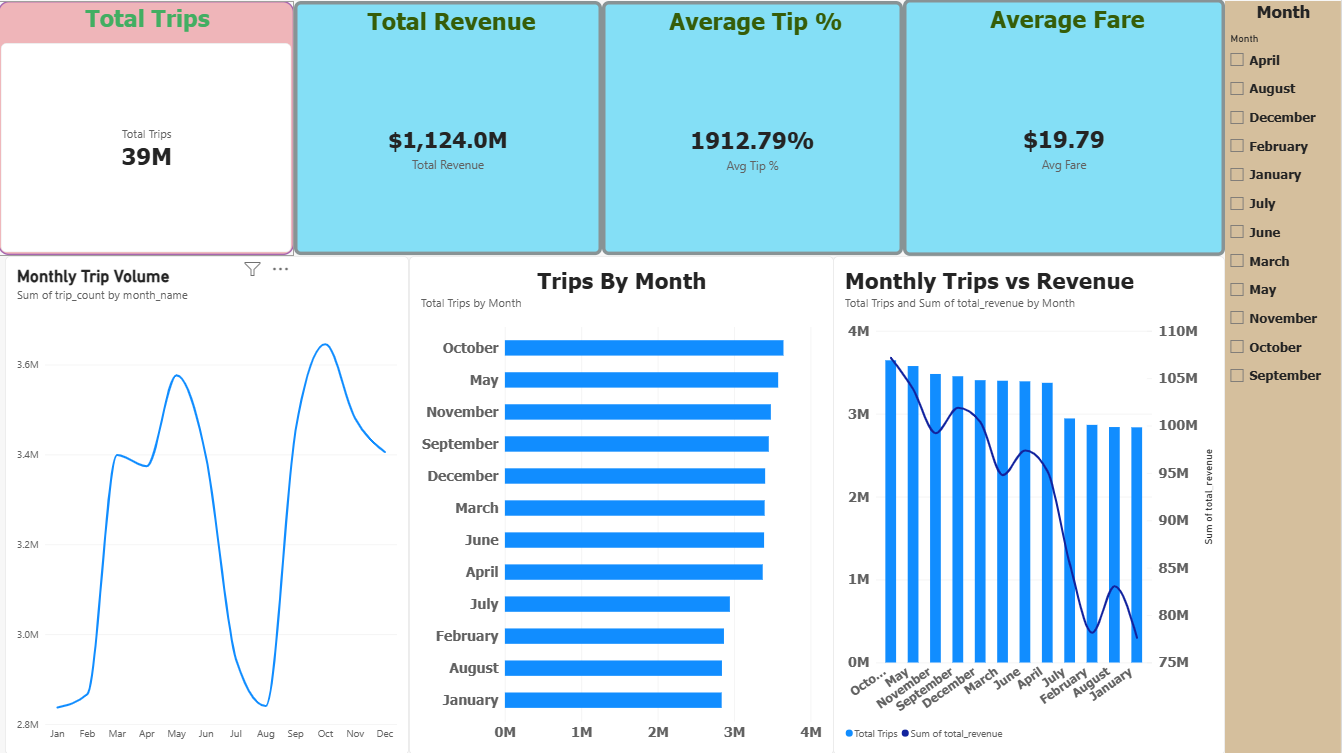

This screenshot's page, from the dashboard's own definition file:
{"tool":"powerbi","page":{"name":"Executive View","canvas":[1920,1080],"ordinal":0},"visuals":[{"type":"lineChart","title":"Monthly Trip Volume","fields":{"Category":["Monthly.month_name"],"Y":["Sum(Monthly.trip_count)"]},"box":[10,366.7,576.7,713.3],"z":2},{"type":"cardVisual","title":"Total Trips","fields":{"Data":["_Measures.Total Trips"]},"box":[0,3.3,423.3,363.3],"z":3},{"type":"card","title":"Total Revenue","fields":{"Values":["_Measures.Total Revenue"]},"box":[423.3,3.3,440,363.3],"z":4},{"type":"card","title":"Average Tip %","fields":{"Values":["_Measures.Avg Tip %"]},"box":[863.3,3.3,430,363.3],"z":5},{"type":"card","title":"Average Fare","fields":{"Values":["_Measures.Avg Fare"]},"box":[1293.3,0,460,366.7],"z":6},{"type":"clusteredBarChart","title":"Trips By Month","fields":{"Category":["Calendar.Month"],"Y":["_Measures.Total Trips"]},"box":[586.7,366.7,606.7,713.3],"z":7},{"type":"lineClusteredColumnComboChart","title":"Monthly Trips vs Revenue","fields":{"Category":["Calendar.Month"],"Y":["_Measures.Total Trips"],"Y2":["Sum(Monthly.total_revenue)"]},"box":[1193.3,366.7,560,713.3],"z":8},{"type":"slicer","title":"Month","fields":{"Values":["Calendar.Month"]},"box":[1753.3,3.3,166.7,1076.7],"z":9}]}

Visuals, with their boxes in screenshot pixels (x1, y1, x2, y2), scaled from the page's 1920x1080 canvas onto the 1342x753 screenshot:
"Monthly Trip Volume" lineChart: Rect(7, 256, 410, 752)
"Total Trips" cardVisual: Rect(0, 2, 296, 256)
"Total Revenue" card: Rect(296, 2, 603, 256)
"Average Tip %" card: Rect(603, 2, 904, 256)
"Average Fare" card: Rect(904, 0, 1225, 256)
"Trips By Month" clusteredBarChart: Rect(410, 256, 834, 752)
"Monthly Trips vs Revenue" lineClusteredColumnComboChart: Rect(834, 256, 1225, 752)
"Month" slicer: Rect(1225, 2, 1341, 752)
